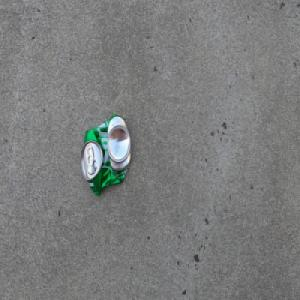SodaCan: (80, 113, 131, 197)
